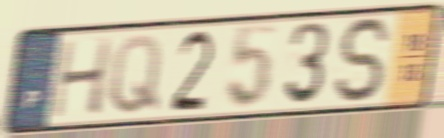2: (169, 27, 218, 115)
3: (282, 20, 332, 108)
5: (226, 21, 279, 113)
H: (48, 35, 116, 121)
Q: (106, 31, 165, 118)
S: (333, 14, 396, 107)
